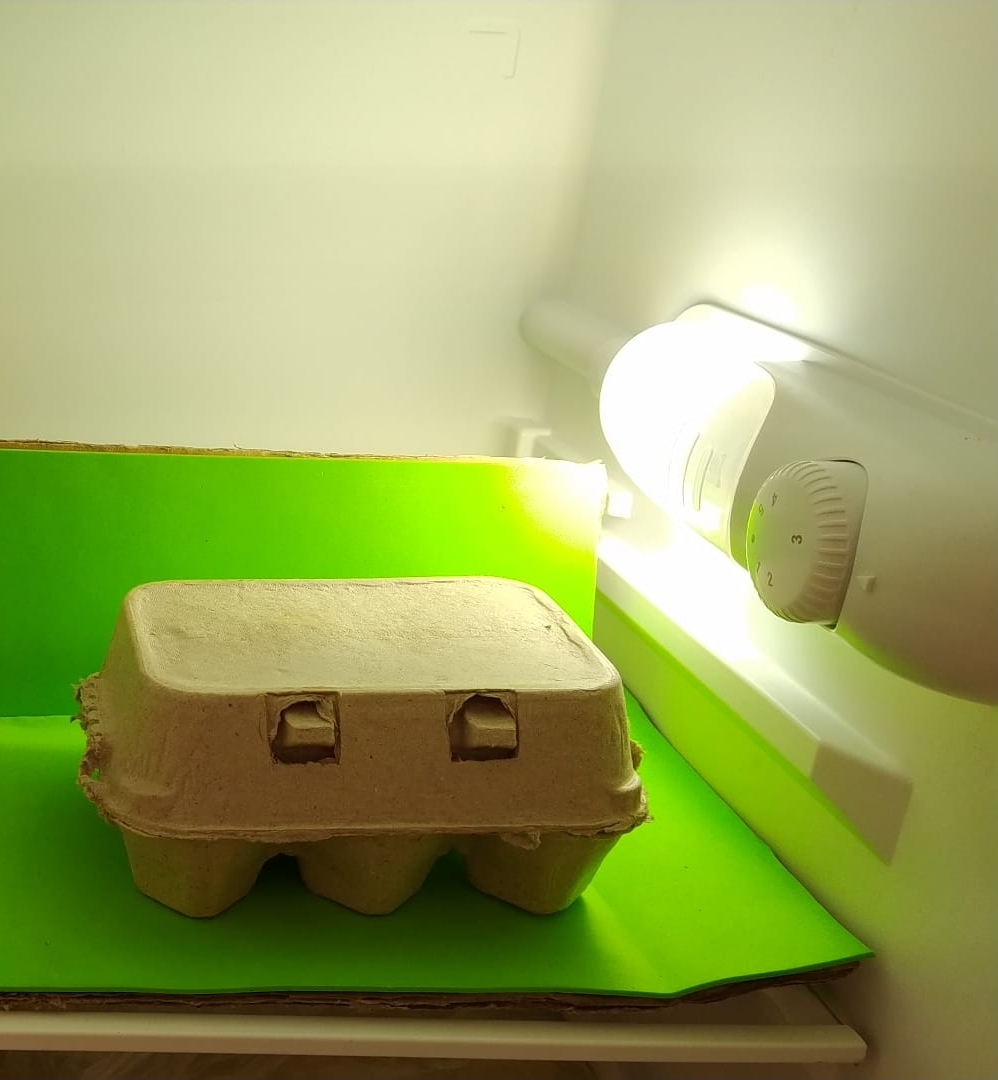egg: (74, 576, 653, 919)
